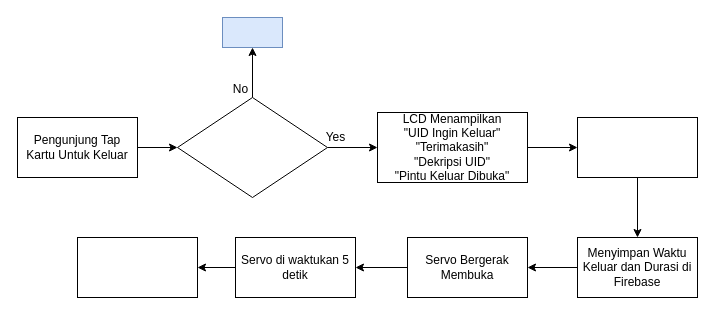
The diagram is 715 pixels wide and 315 high, and some of its shapes have lost their labels. Here are the shapes that lost their labels. From the top down, the centre of each, then its label:
At [252,147]: "Apakah UID ada di daftar pengunjug yang sudah masuk?".
At [637,147]: "Menghitung Durasi Berhenti".
At [137,267]: "Servo Menutup".
